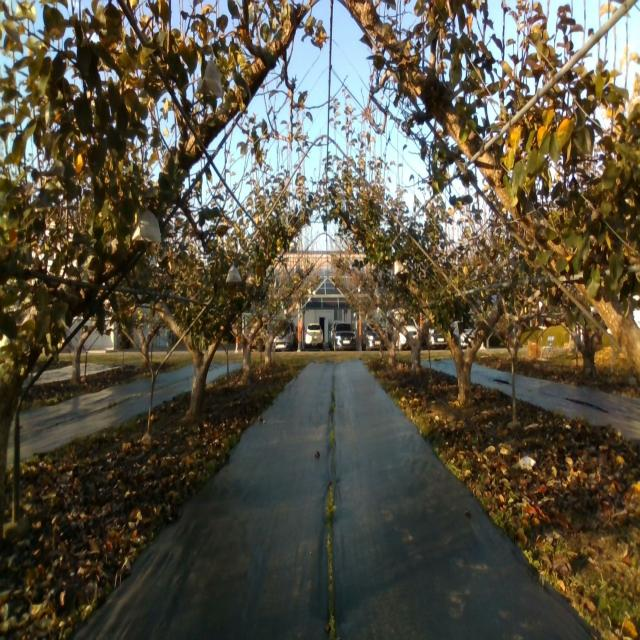pearbags: (196, 61, 224, 98), (132, 210, 162, 244), (226, 265, 241, 283)
